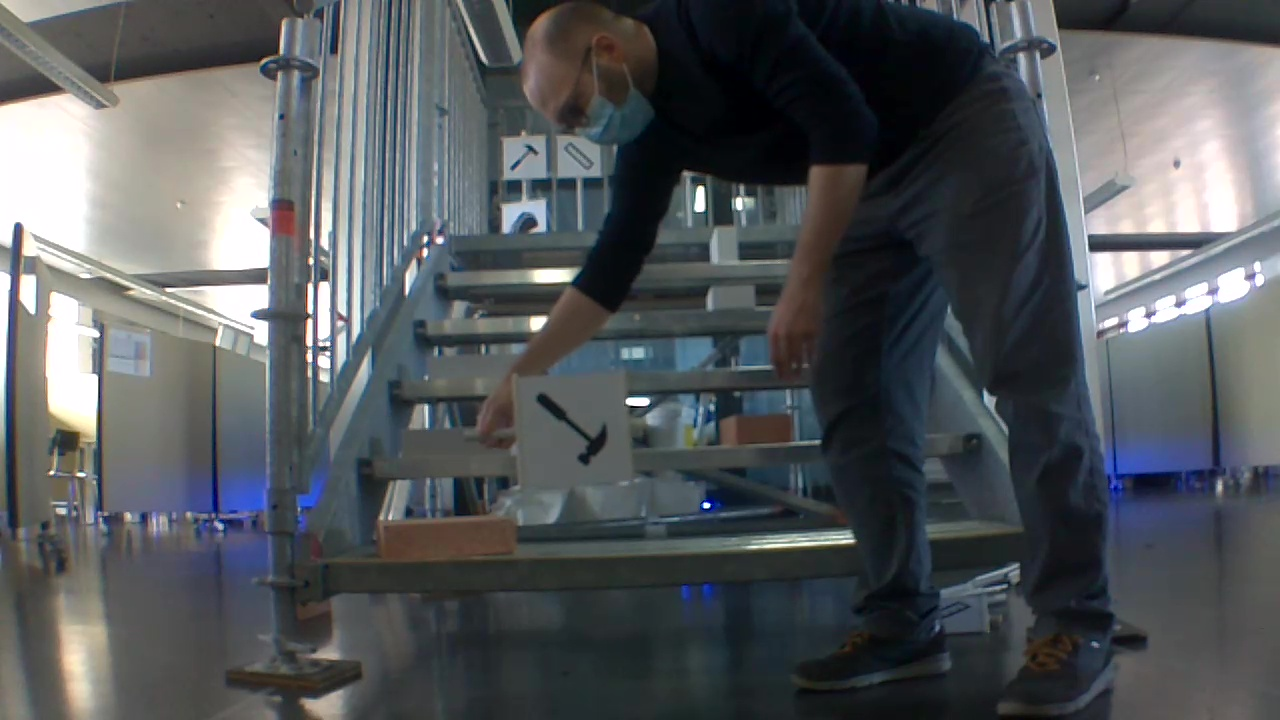brick: (375, 514, 514, 563), (720, 412, 791, 442), (430, 356, 511, 378), (403, 429, 466, 456), (706, 286, 753, 308), (711, 227, 737, 262)
hammer: (527, 383, 616, 471), (506, 141, 541, 174)
ruler: (558, 139, 599, 172)
taco: (506, 210, 540, 234)
